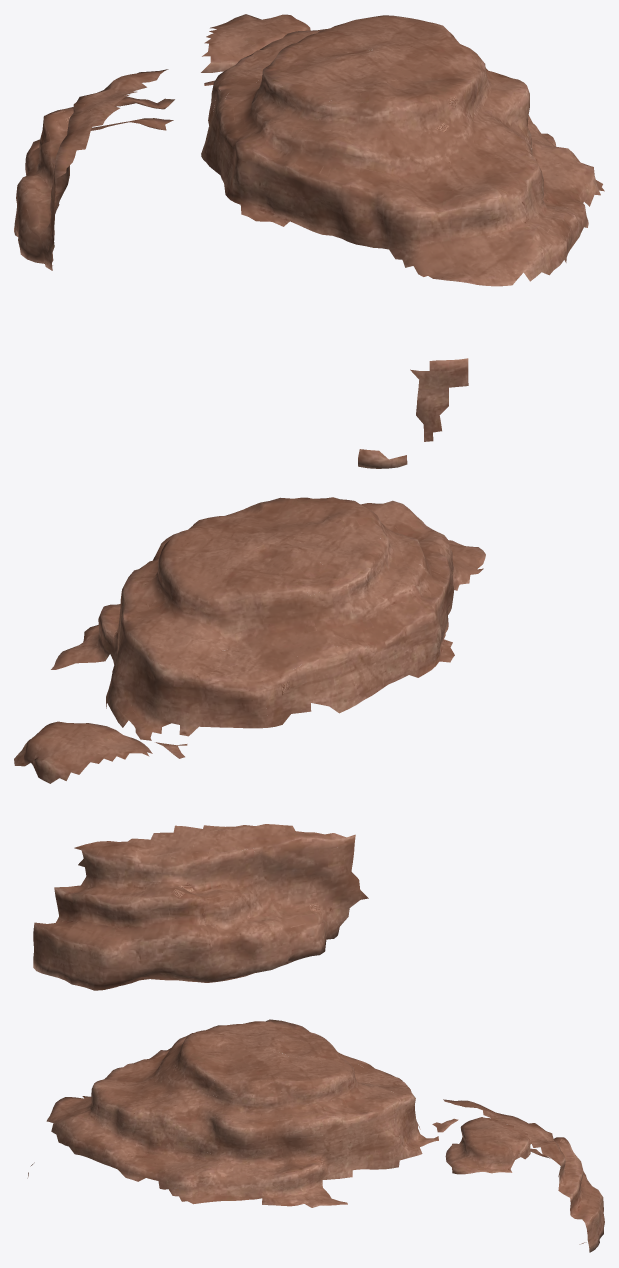
Rendered from scene-small-cut.glb.
The picture shows the model from 3 angles, top to bottom: view 1: azimuth 30°, elevation 25°; view 2: azimuth 150°, elevation 25°; view 3: azimuth 270°, elevation 25°; orthographic projection. The views are drawn at different scales.
Parts seen in each view (by area): view 1: P11DesertCliff-High; view 2: P11DesertCliff-High; view 3: P11DesertCliff-High.
Part boxes in pixels (x1,y1,x2,y2): P11DesertCliff-High: (14, 14, 604, 468); P11DesertCliff-High: (14, 497, 485, 990); P11DesertCliff-High: (27, 1019, 604, 1252).
Bounding box in the file's own units: 1132 × 811 × 2066.
Materials: 1 (1 with a texture image).
